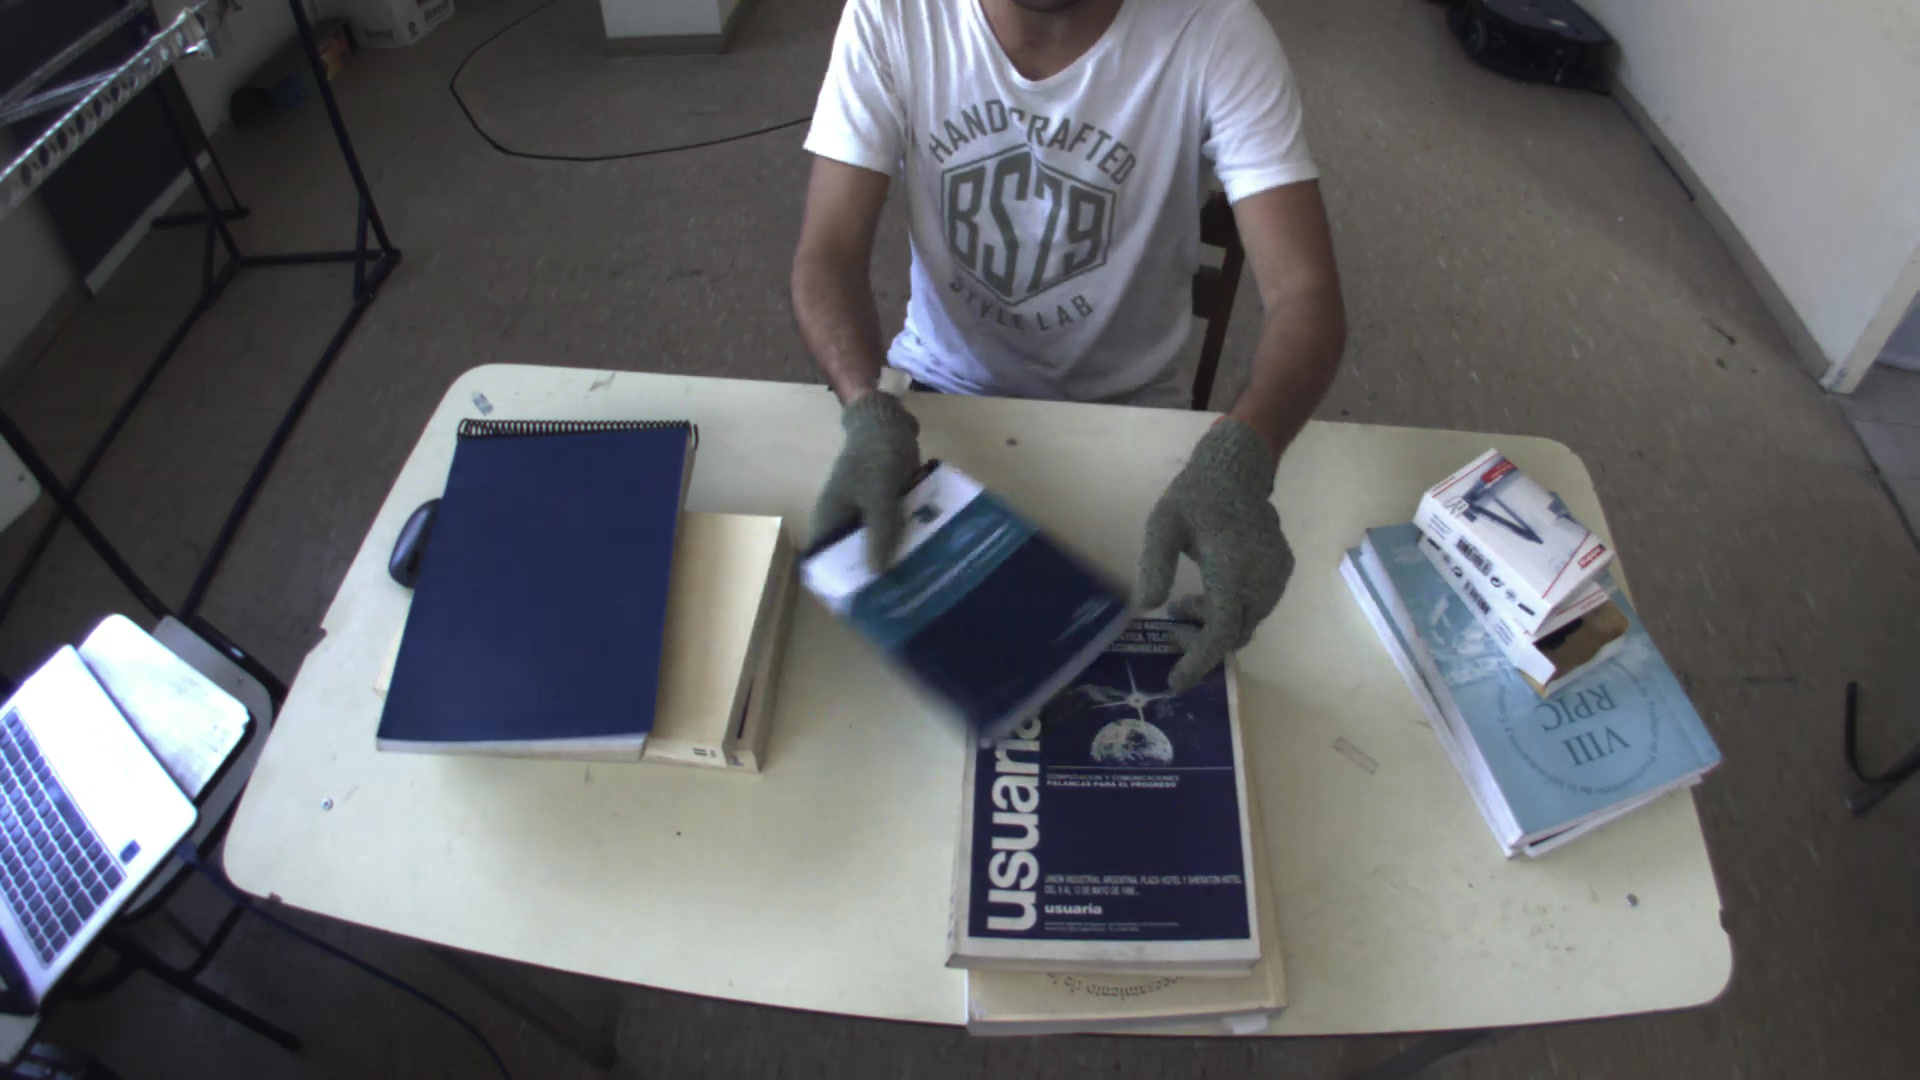hand: (1120, 407, 1307, 709), (802, 384, 931, 572)
